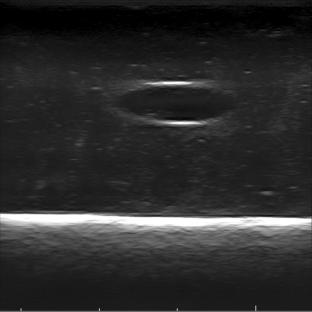vessel: (117, 80, 236, 128)
